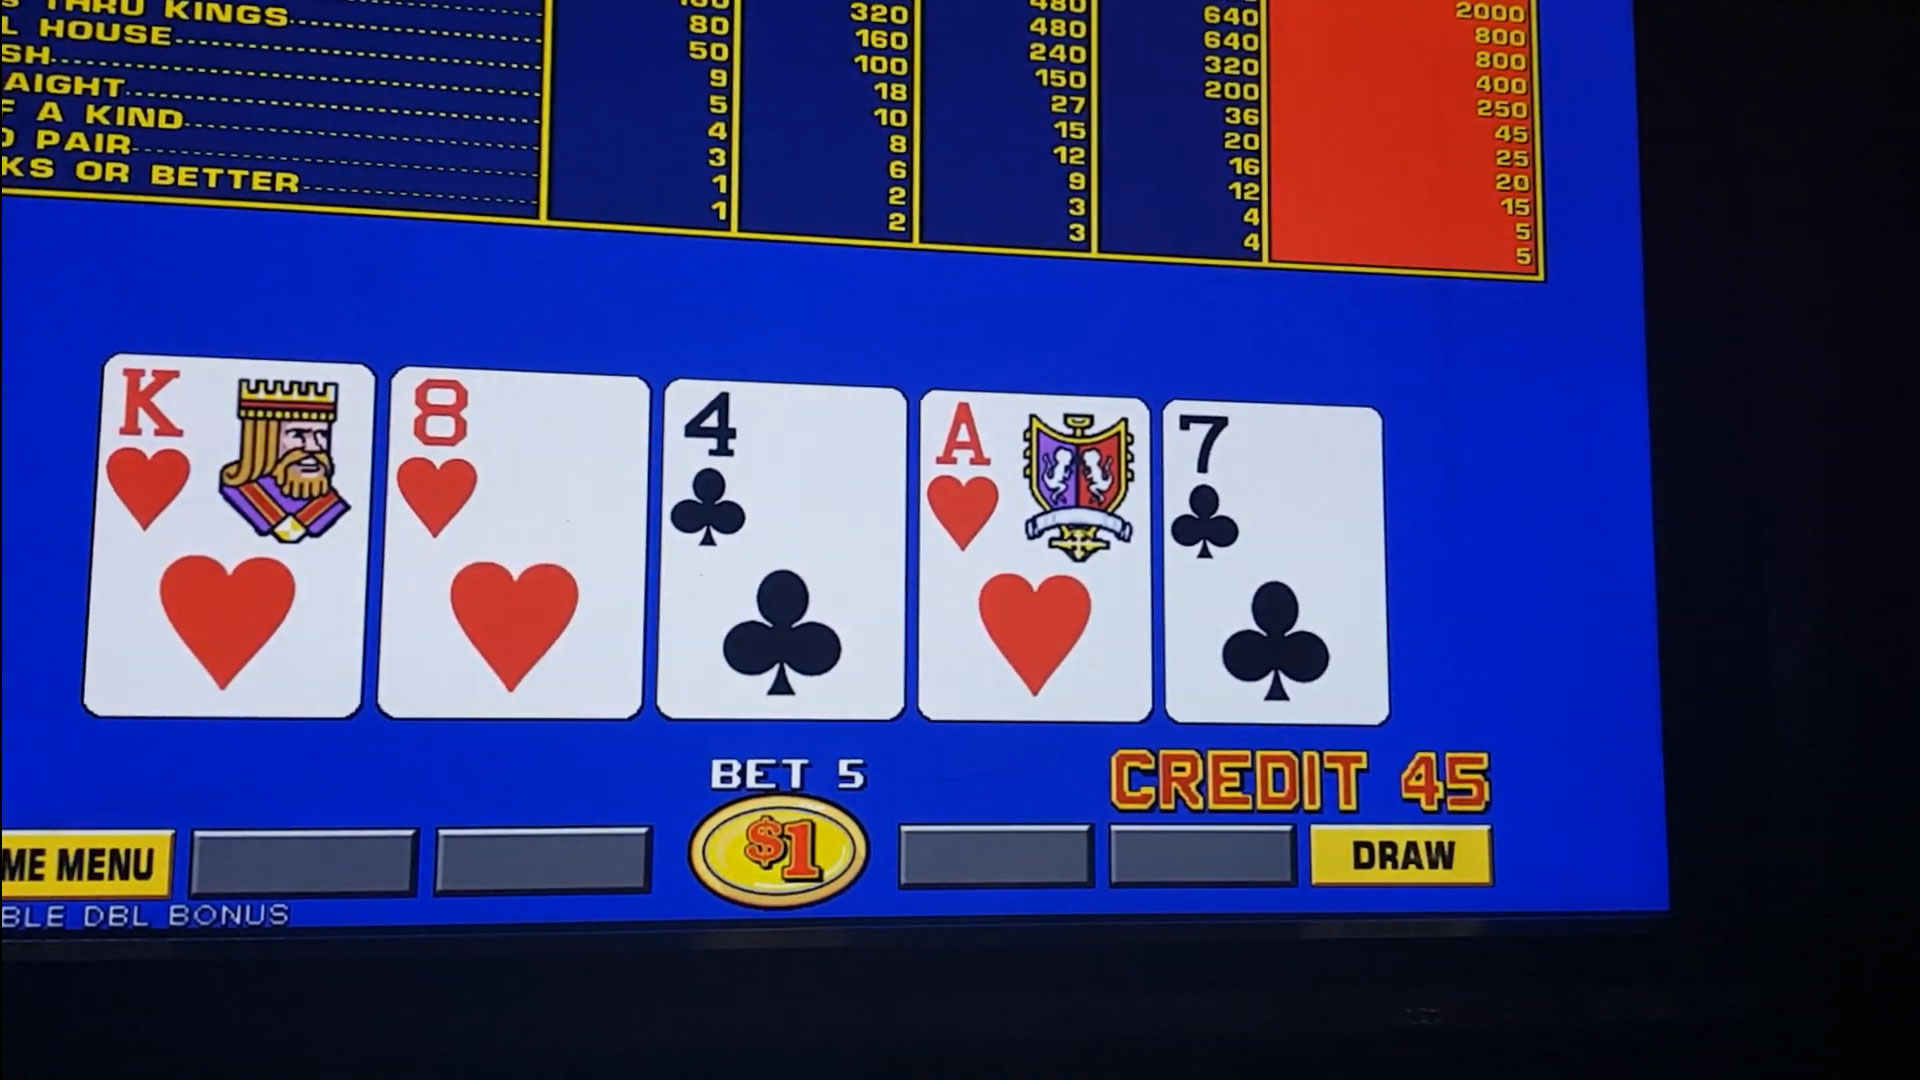C4: (666, 389, 899, 567)
C7: (1170, 407, 1377, 571)
H8: (389, 381, 644, 556)
HA: (930, 401, 1149, 562)
HK: (113, 371, 373, 541)
